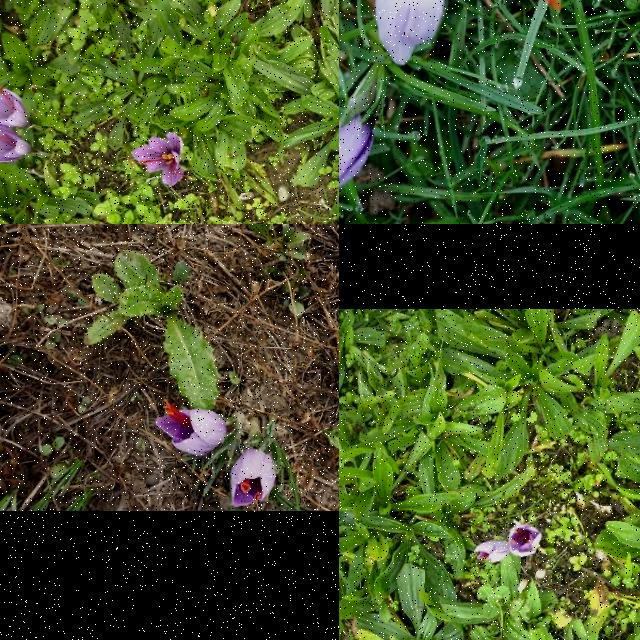flower: (374, 0, 561, 64), (154, 398, 228, 458), (339, 112, 375, 212), (132, 132, 184, 186), (232, 448, 276, 508), (0, 124, 31, 162), (508, 523, 544, 555), (0, 89, 29, 128), (476, 542, 508, 566)
